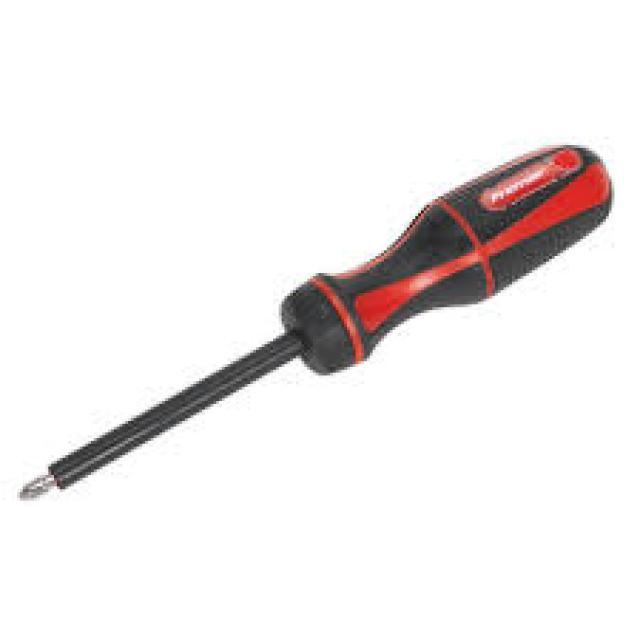screwdriver: (11, 141, 628, 505)
